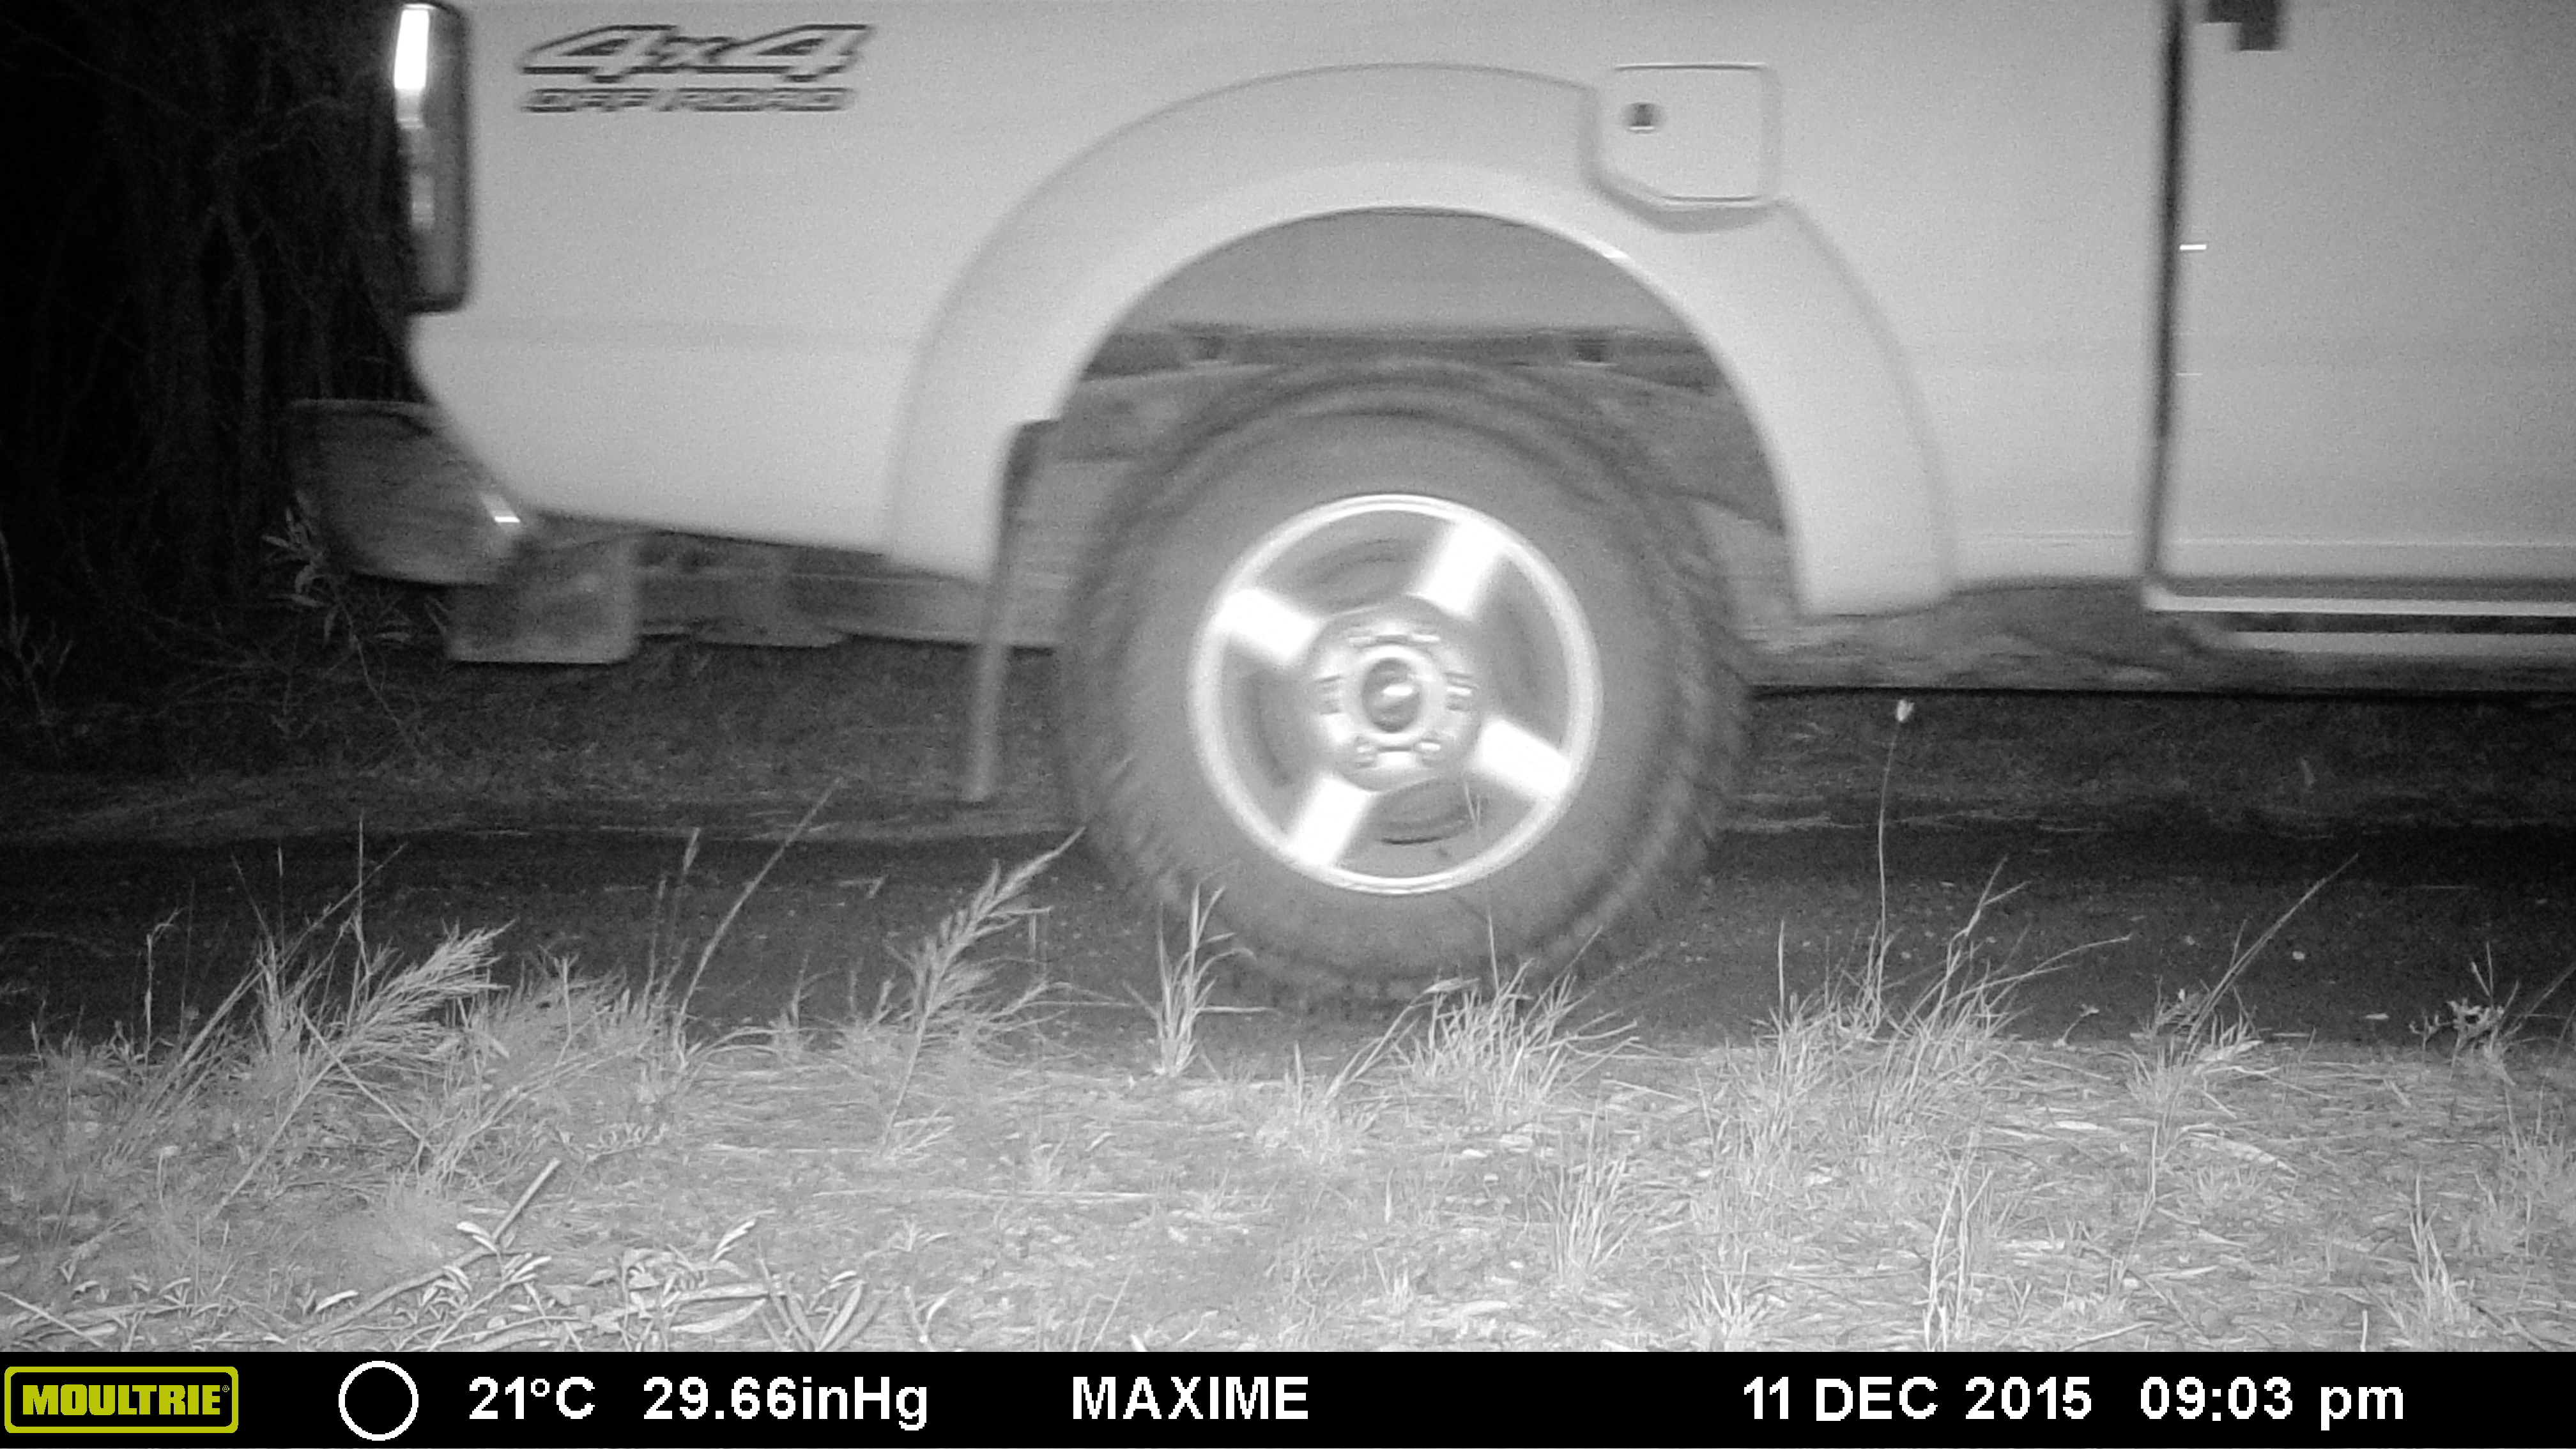Car: (301, 7, 2572, 1023)
